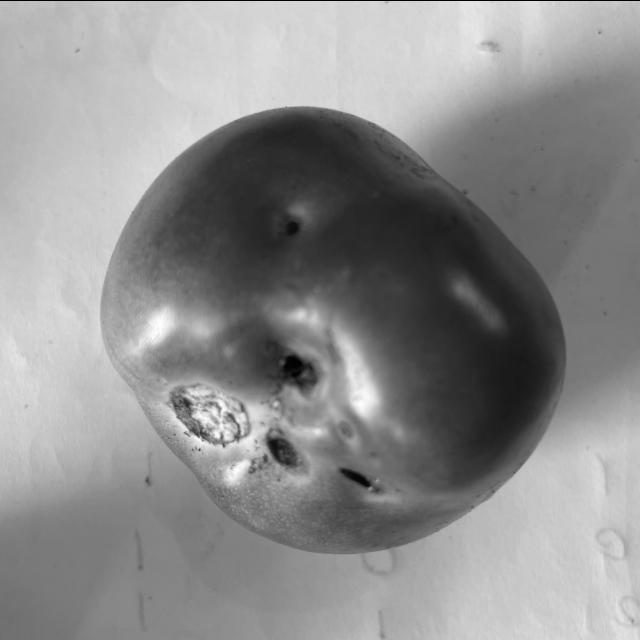fruitworm_bore: (264, 340, 326, 408), (260, 422, 310, 478), (332, 458, 386, 508), (267, 200, 315, 256)
